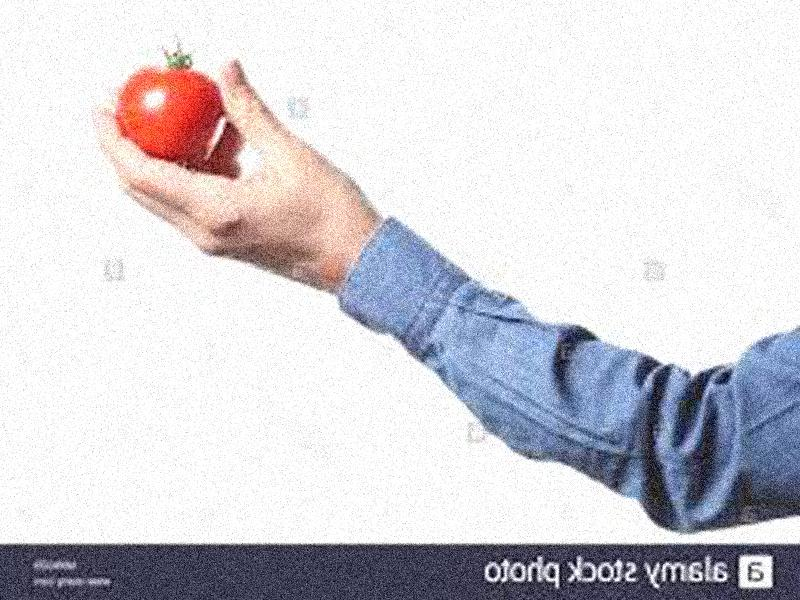Tomato: (115, 69, 219, 156)
